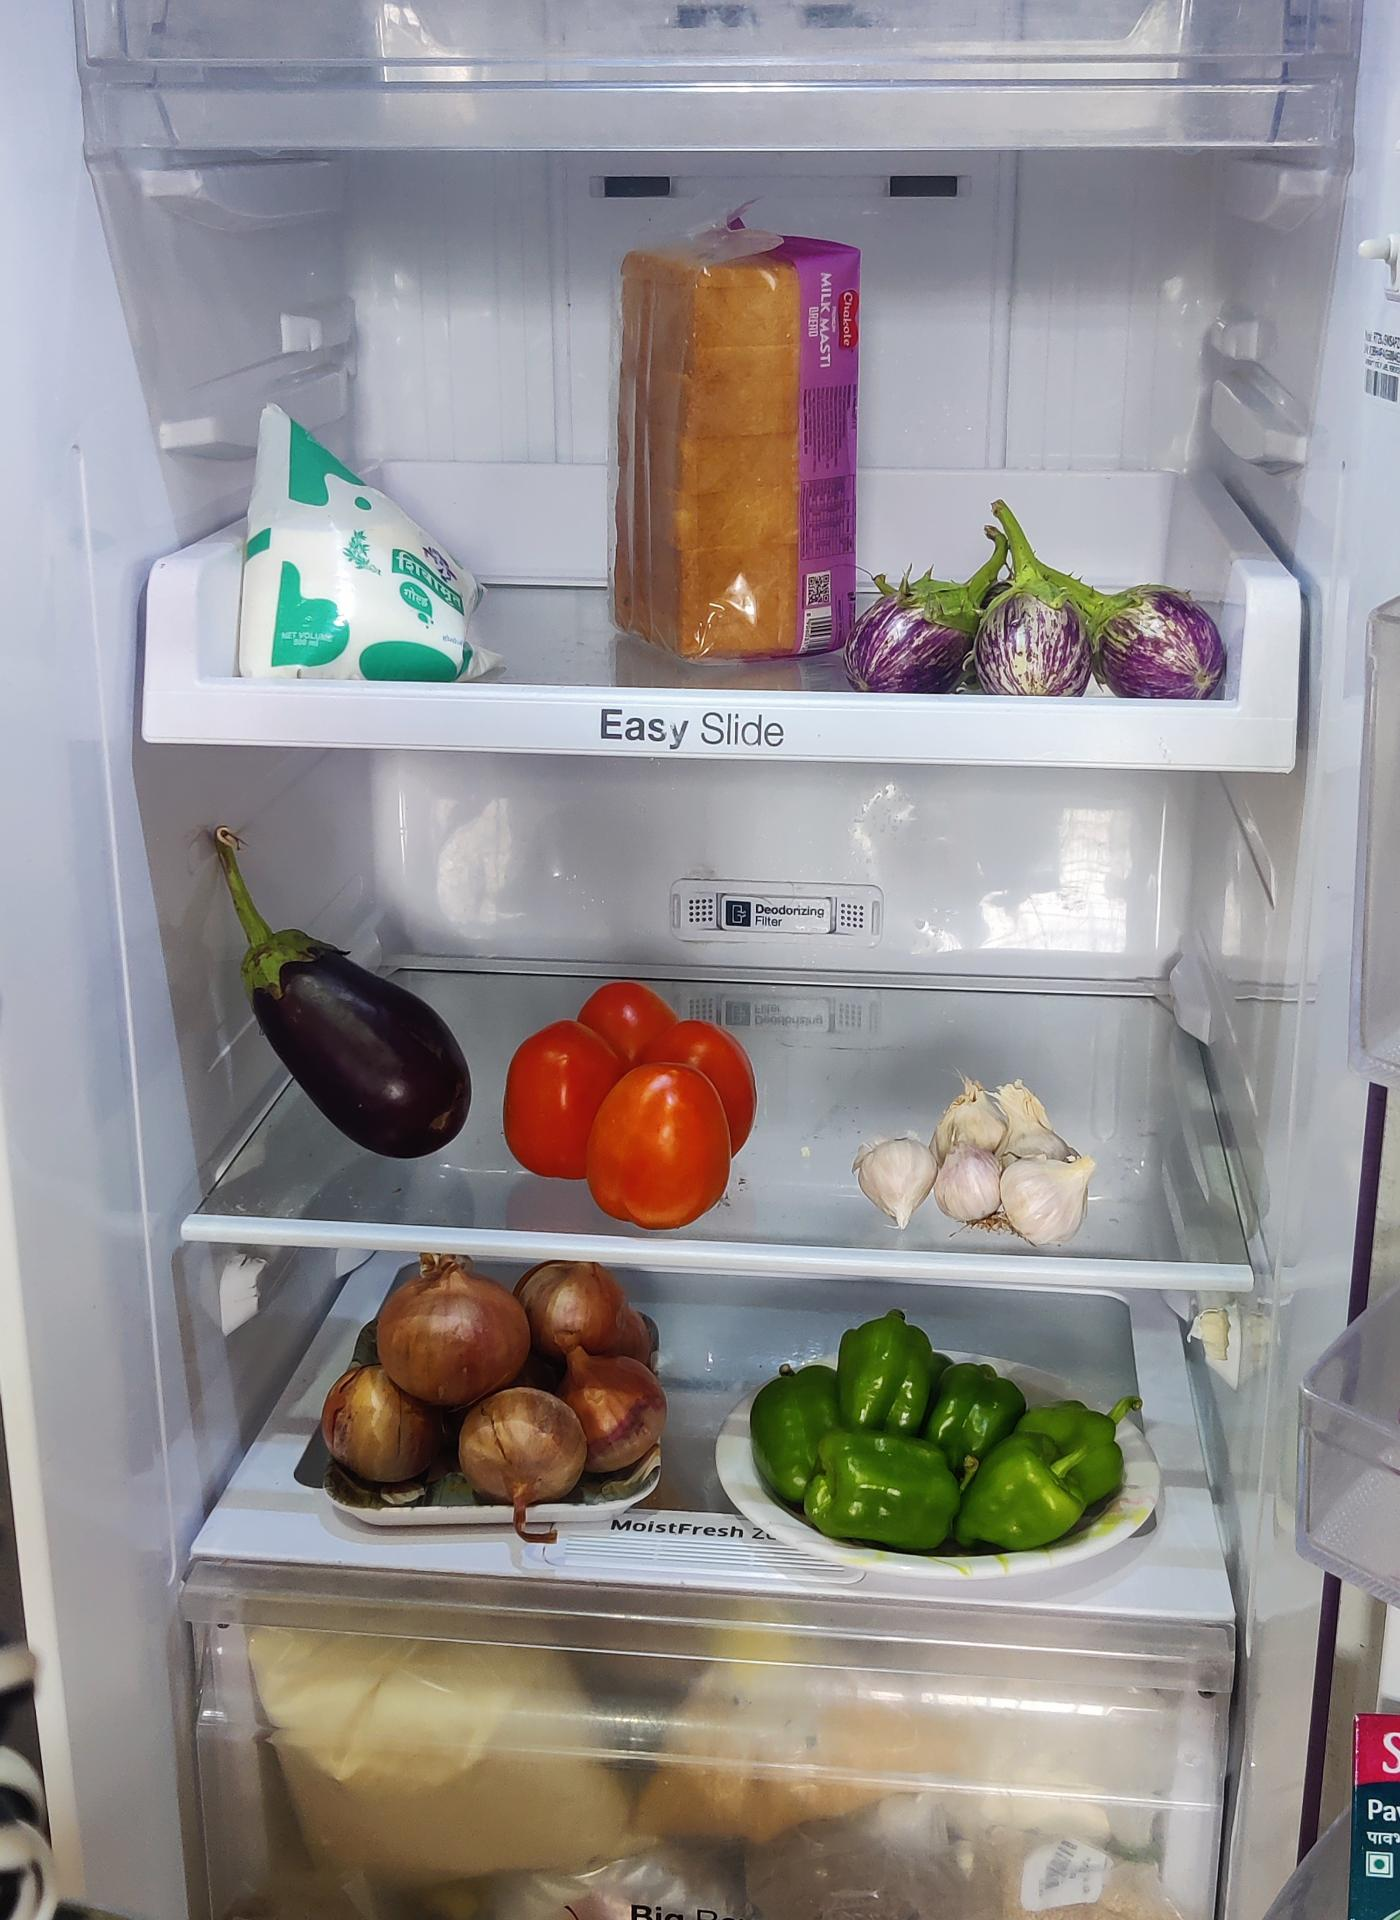bread: (602, 215, 871, 660)
brinjal: (850, 514, 1229, 701), (239, 908, 479, 1164)
capsicum: (751, 1316, 1141, 1555)
garlic: (860, 1067, 1100, 1237)
milk: (234, 400, 486, 678)
onion: (318, 1251, 665, 1501)
tomato: (504, 972, 760, 1215)
